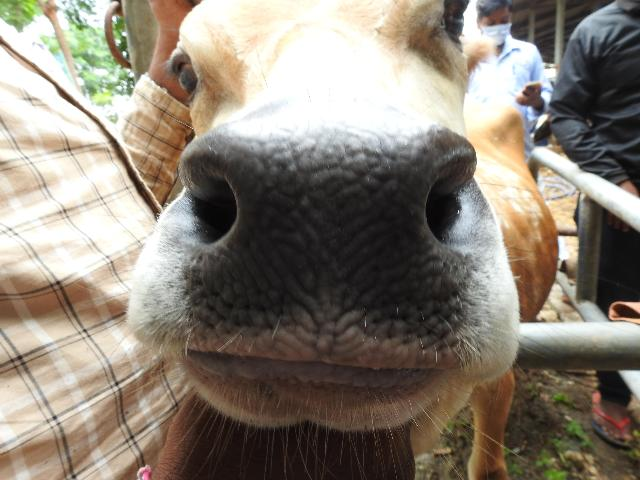Muzzle: (246, 129, 409, 353)
